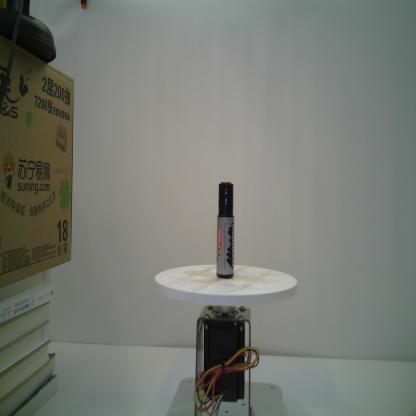Stationery: (216, 181, 235, 280)
